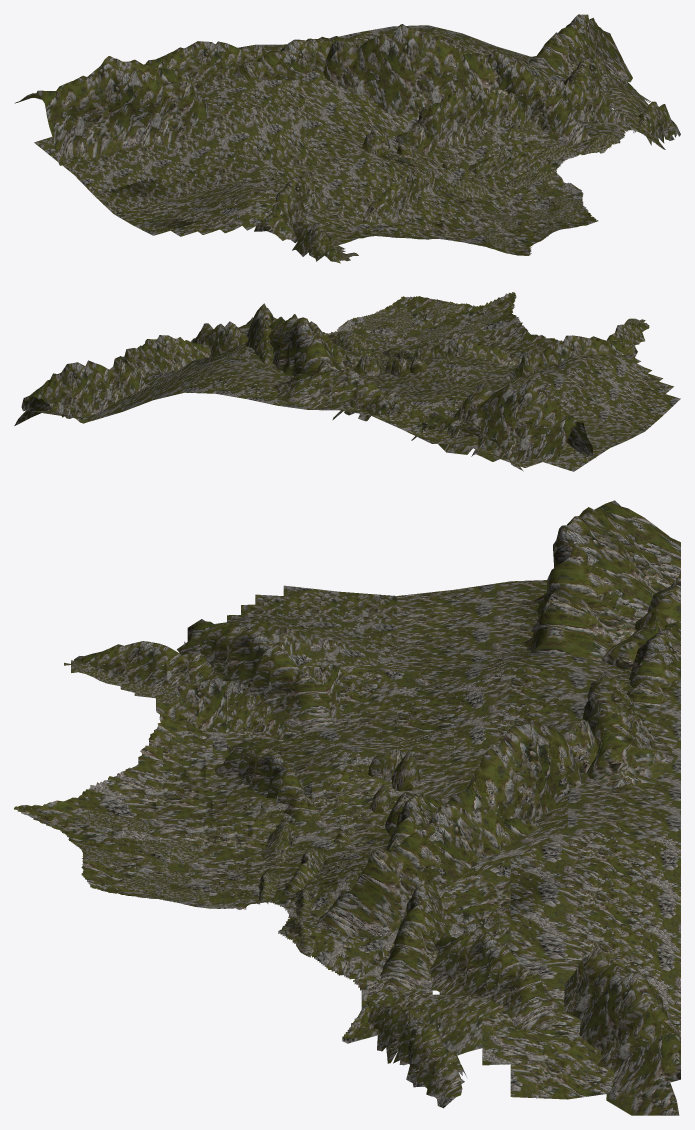
The model's file is map.FBX.
3 renders of one model, top to bottom at view 1: azimuth 30°, elevation 25°; view 2: azimuth 150°, elevation 25°; view 3: azimuth 270°, elevation 25°, orthographic. The views are drawn at different scales.
Visible parts, largest first — view 1: o157, DiRT 2-3f63ef08.obj_2; view 2: DiRT 2-3f63ef08.obj_2, o157; view 3: o157, DiRT 2-3f63ef08.obj_2.
Boxes of the visible parts, box(x1,y1,x2,y2) form: o157: box(34, 25, 665, 261); DiRT 2-3f63ef08.obj_2: box(14, 14, 680, 263); DiRT 2-3f63ef08.obj_2: box(14, 303, 649, 471); o157: box(30, 292, 680, 471); o157: box(14, 580, 680, 1099); DiRT 2-3f63ef08.obj_2: box(74, 500, 680, 1115).
Bounding box in the file's own units: 2244 × 568 × 1504.
3 materials, 3 textured.
